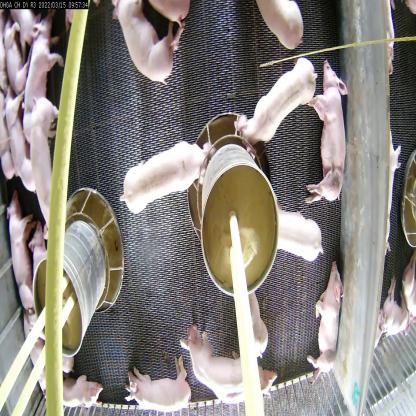Pig: (183, 313, 274, 416), (297, 69, 352, 213), (235, 57, 313, 154), (118, 136, 209, 216), (109, 0, 179, 88), (16, 9, 58, 136), (1, 200, 42, 310), (118, 360, 198, 416), (311, 255, 343, 384), (266, 200, 326, 268), (30, 94, 64, 209), (41, 363, 105, 416), (229, 296, 275, 361), (256, 0, 305, 51)
